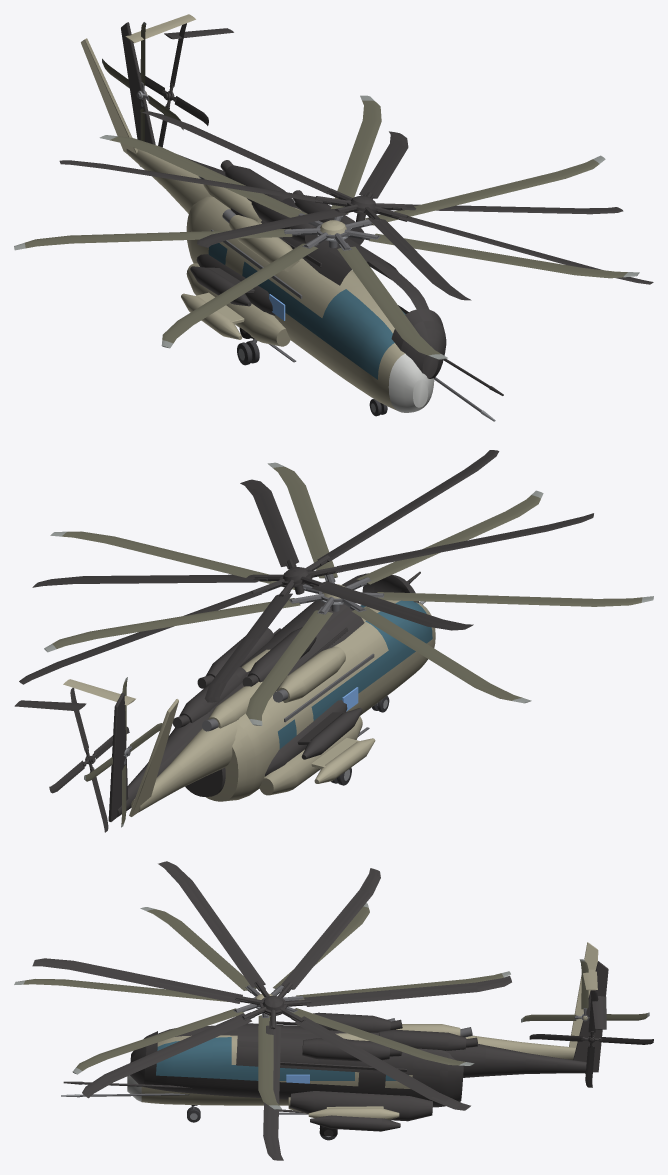
Rendered from heavyLift__ch_53k_pereh.glb.
3 views of the same model, one above another, from view 1: azimuth 30°, elevation 25°; view 2: azimuth 150°, elevation 25°; view 3: azimuth 270°, elevation 25° (orthographic). The views are drawn at different scales.
Parts seen in each view (by area): view 1: Wreck, Fuselage_Mesh, Rotor_Main_Mesh, Engines_Mesh, Rotor_Tail_Mesh, Landing_Gear_Mesh; view 2: Wreck, Fuselage_Mesh, Rotor_Main_Mesh, Engines_Mesh, Rotor_Tail_Mesh; view 3: Wreck, Fuselage_Mesh, Rotor_Main_Mesh, Rotor_Tail_Mesh, Engines_Mesh.
Boxes of the visible parts, box(x1,y1,x2,y2) form: Wreck: box(59, 22, 653, 395); Fuselage_Mesh: box(81, 14, 495, 421); Rotor_Main_Mesh: box(14, 95, 639, 359); Engines_Mesh: box(198, 176, 301, 271); Rotor_Tail_Mesh: box(102, 22, 183, 166); Landing_Gear_Mesh: box(237, 339, 387, 416); Wreck: box(14, 450, 593, 832); Fuselage_Mesh: box(63, 600, 435, 816); Rotor_Main_Mesh: box(44, 462, 653, 725); Engines_Mesh: box(202, 646, 345, 731); Rotor_Tail_Mesh: box(84, 677, 162, 827); Wreck: box(32, 861, 653, 1160); Fuselage_Mesh: box(61, 942, 598, 1119); Rotor_Main_Mesh: box(14, 903, 510, 1109); Rotor_Tail_Mesh: box(521, 959, 649, 1073); Engines_Mesh: box(297, 1018, 472, 1040).
Size of what is drawn, in the model's own units: 24 by 9.6 by 30.35.
